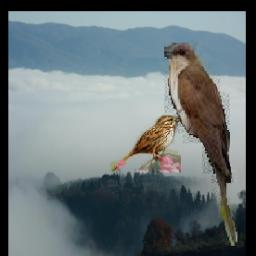Cuckoo: (163, 43, 237, 246)
Sparrow: (109, 114, 180, 174)
